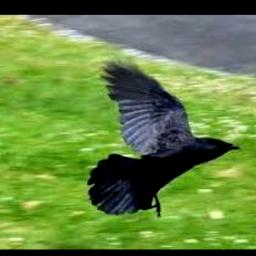Crow: (83, 58, 240, 216)
